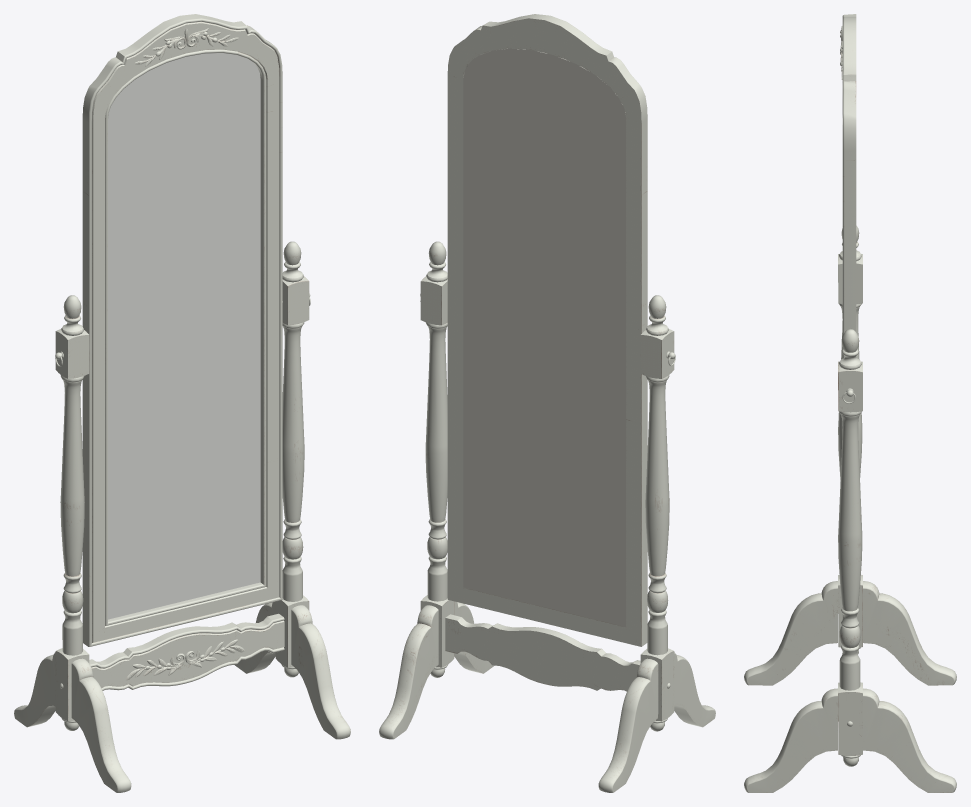
The model's file is example178.gltf.
3 renders of one model, left to right at view 1: azimuth 30°, elevation 25°; view 2: azimuth 150°, elevation 25°; view 3: azimuth 270°, elevation 25°, orthographic.
Bounding box in the file's own units: 65.48 × 175 × 47.34.
Materials: 3 (2 with a texture image).
